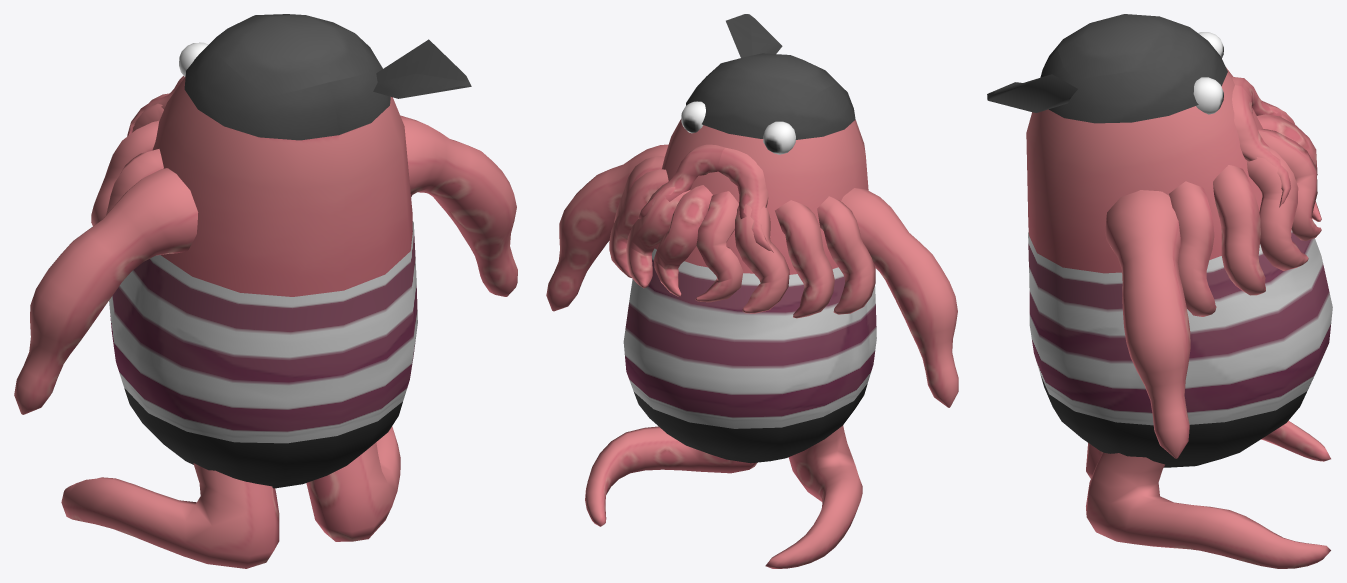
Rendered from tako_idle_a_05.fbx.
The picture shows the model from 3 angles, left to right: view 1: azimuth 30°, elevation 25°; view 2: azimuth 150°, elevation 25°; view 3: azimuth 270°, elevation 25°; orthographic projection. The views are drawn at different scales.
Parts seen in each view (by area): view 1: I_a_05; view 2: I_a_05; view 3: I_a_05.
Part boxes in pixels (bbox=[...]): I_a_05: bbox=[14, 14, 517, 568]; I_a_05: bbox=[546, 14, 958, 568]; I_a_05: bbox=[987, 14, 1332, 568].
Size of the model in its own units: 1.76 by 1.75 by 1.13.
Materials: 1 (1 with a texture image).
